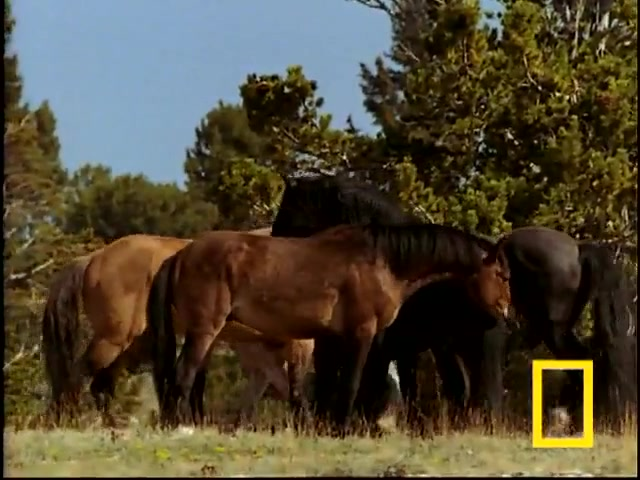horse: (146, 220, 515, 440)
